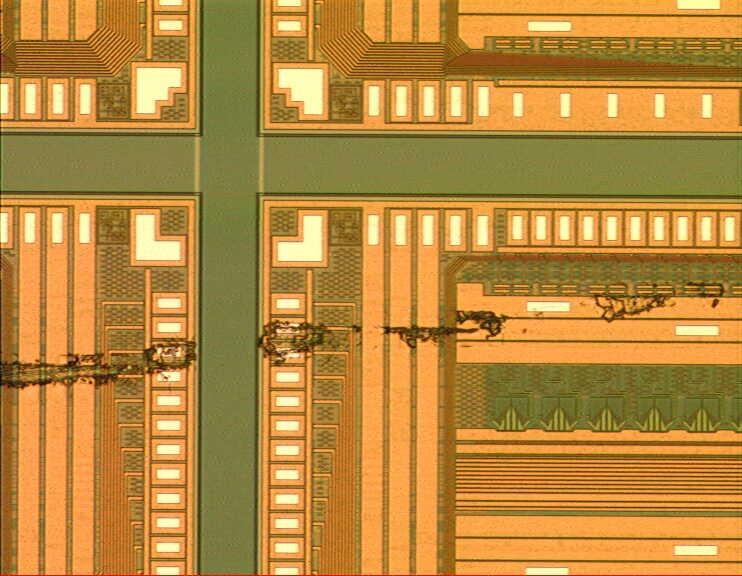SCRATCH: (1, 259, 742, 402)
